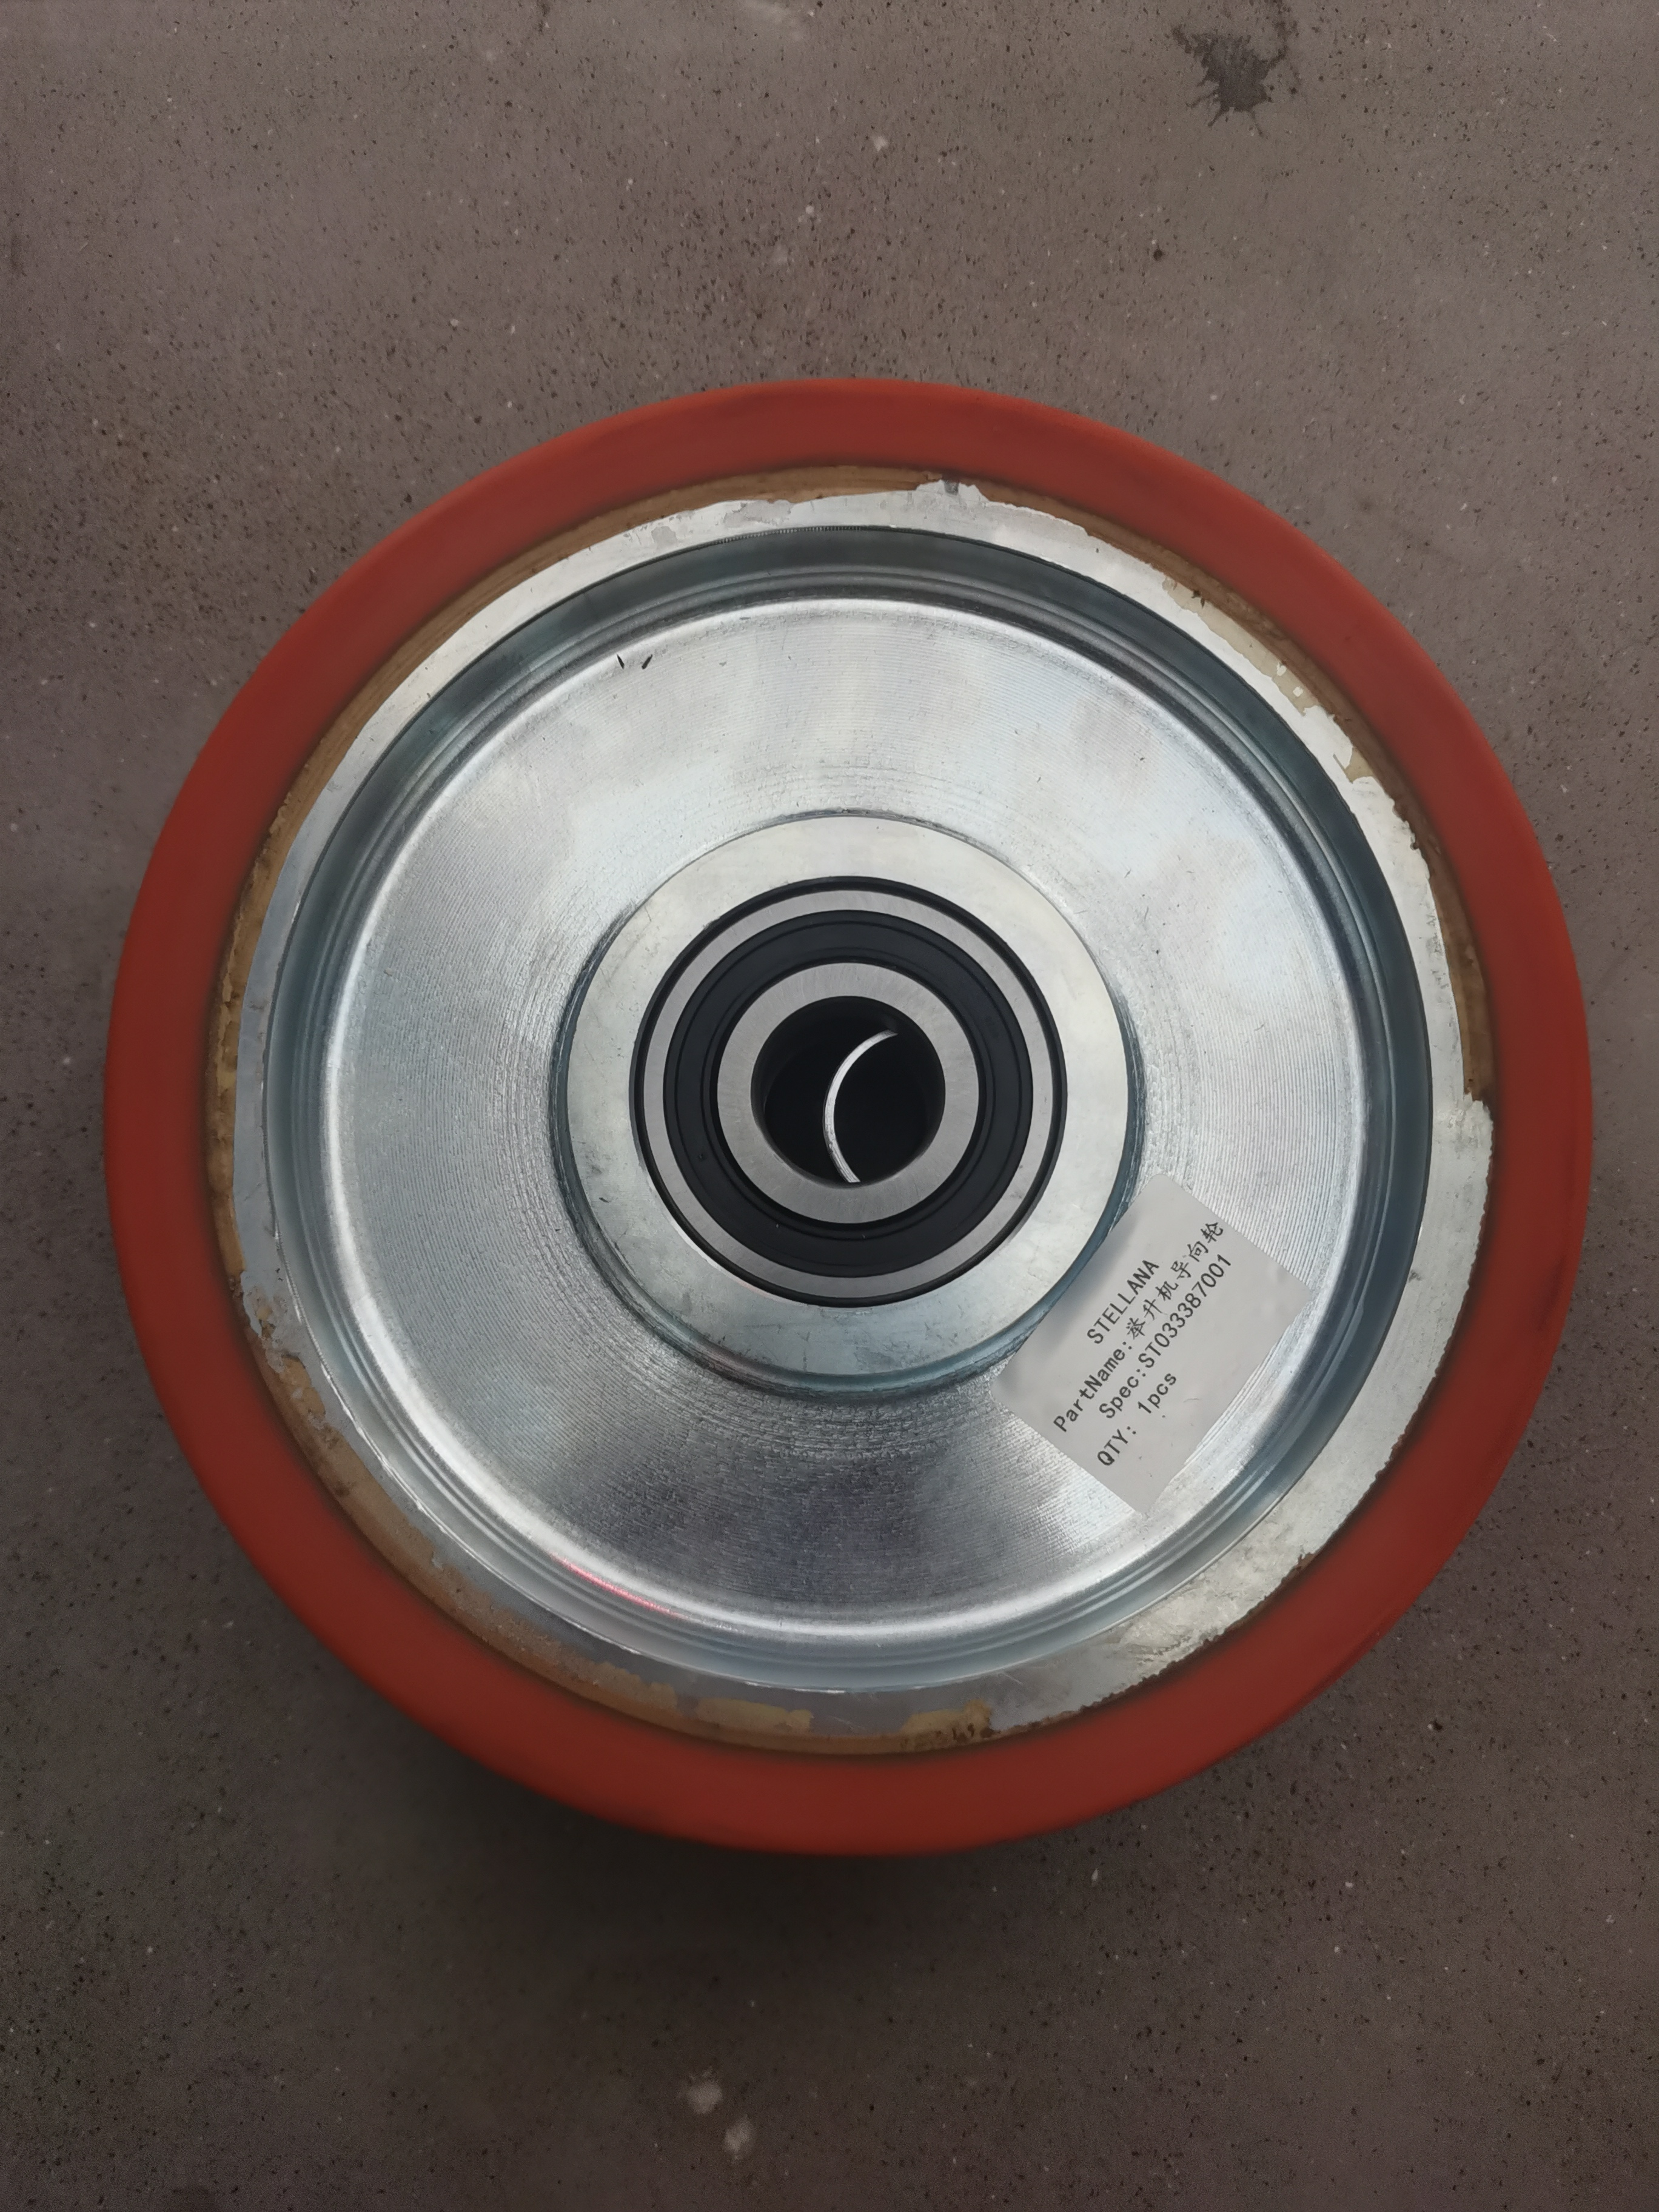good_wheel: (73, 310, 1615, 1907)
